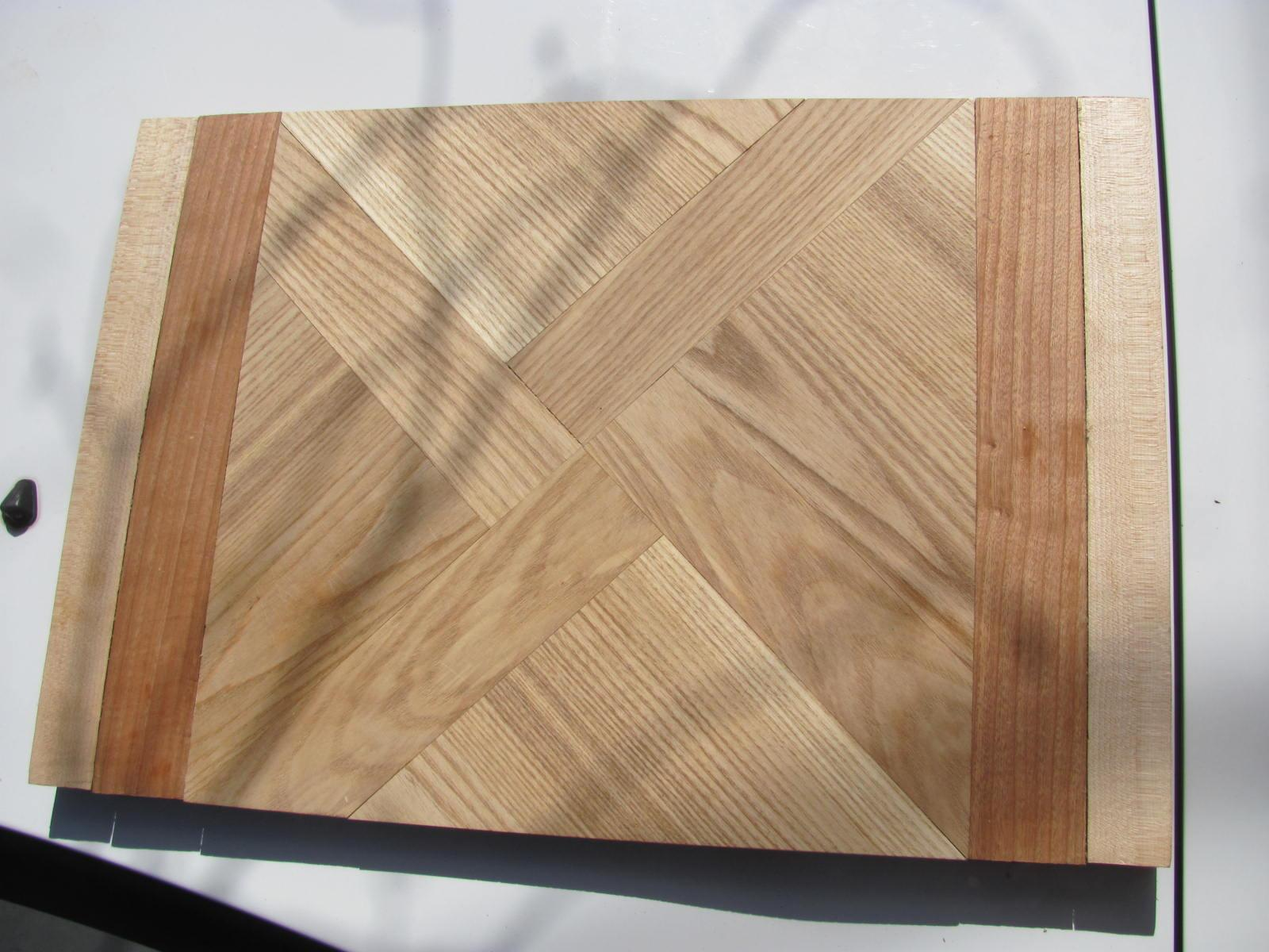gloved_hand: (22, 92, 1200, 888)
